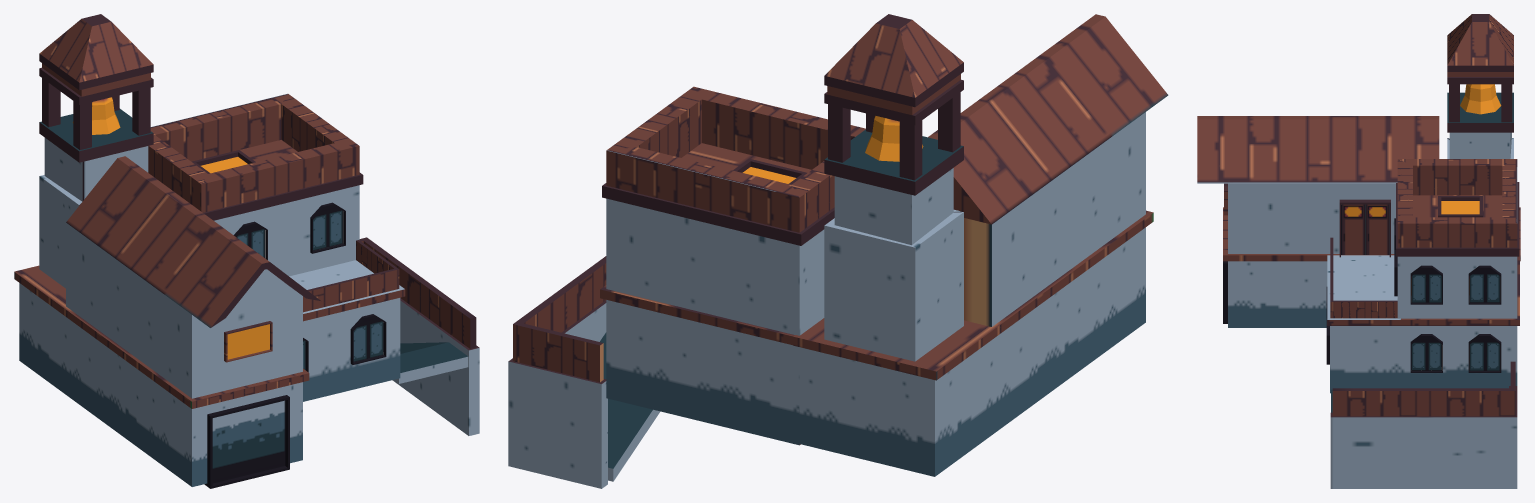
The model's file is Escola.v1.Anibal.2508.fbx.
3 renders of one model, left to right at view 1: azimuth 30°, elevation 25°; view 2: azimuth 150°, elevation 25°; view 3: azimuth 270°, elevation 25°, orthographic. The views are drawn at different scales.
Visible parts, largest first — view 1: Escola; view 2: Escola; view 3: Escola.
Boxes of the visible parts, left/top/right/bottom form: Escola: left=14, top=14, right=479, bottom=488; Escola: left=508, top=14, right=1168, bottom=488; Escola: left=1197, top=14, right=1520, bottom=488.
Size of the model in its own units: 1271 by 1207 by 1446.
